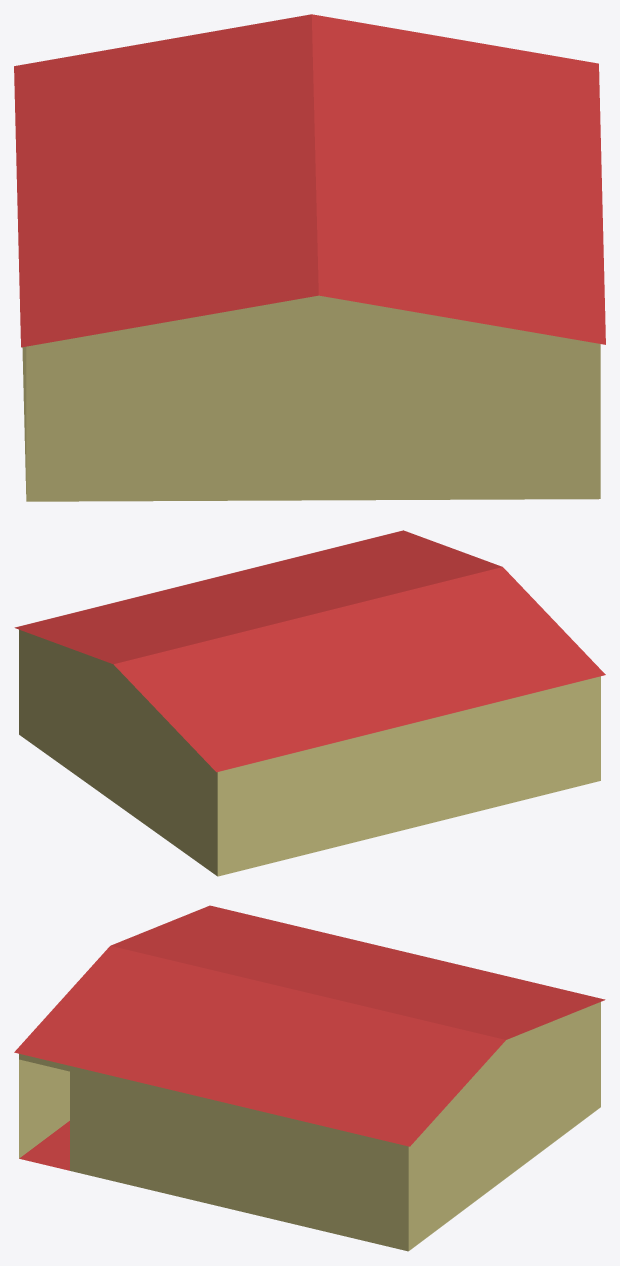
The picture shows the model from 3 angles, top to bottom: view 1: azimuth 30°, elevation 25°; view 2: azimuth 150°, elevation 25°; view 3: azimuth 270°, elevation 25°; orthographic projection. The views are drawn at different scales.
Size of the model in its own units: 39.05 by 40.49 by 10.67.
